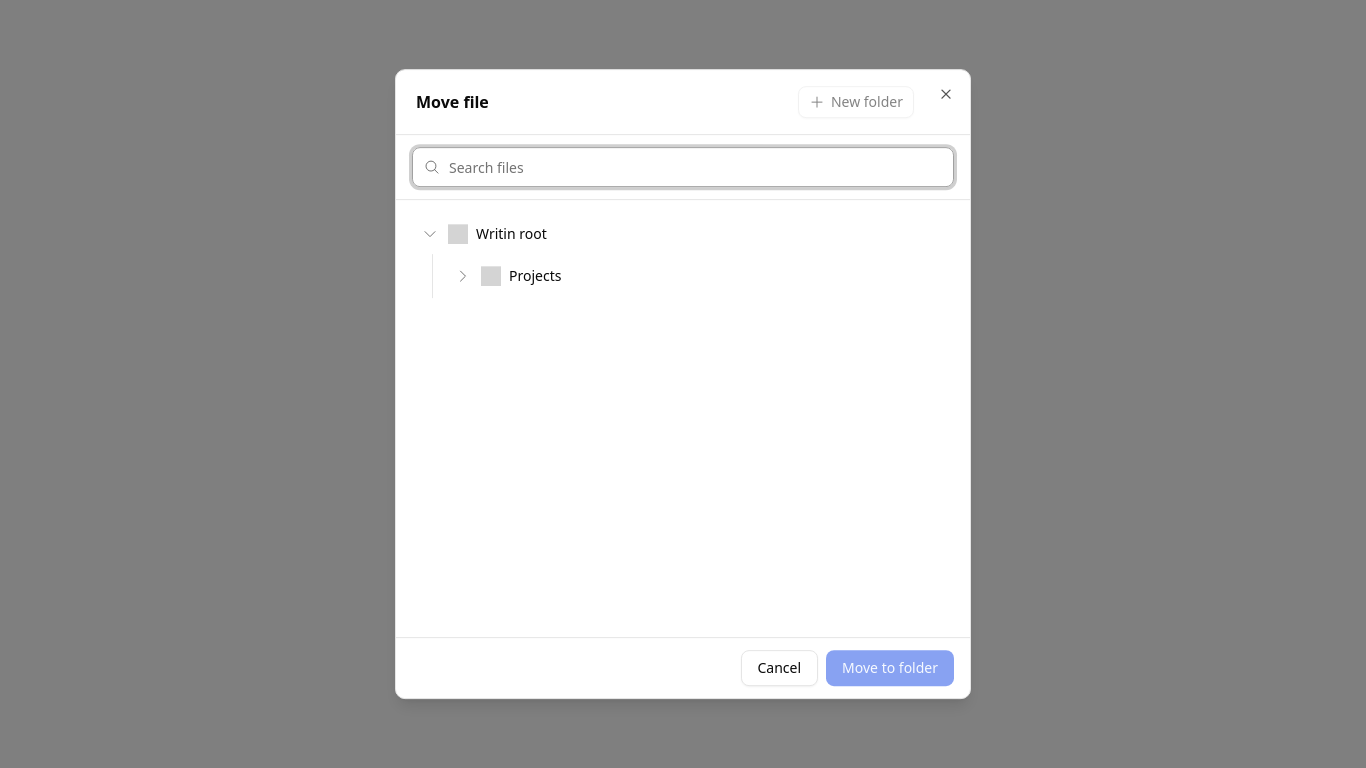
Test: MoveItemDialog › allows choosing the workspace root as the parent for a new folder
This screenshot has width=1366, height=768.
Click the list item "Writin root Projects".
click(683, 256)  # box [408,212,958,300]
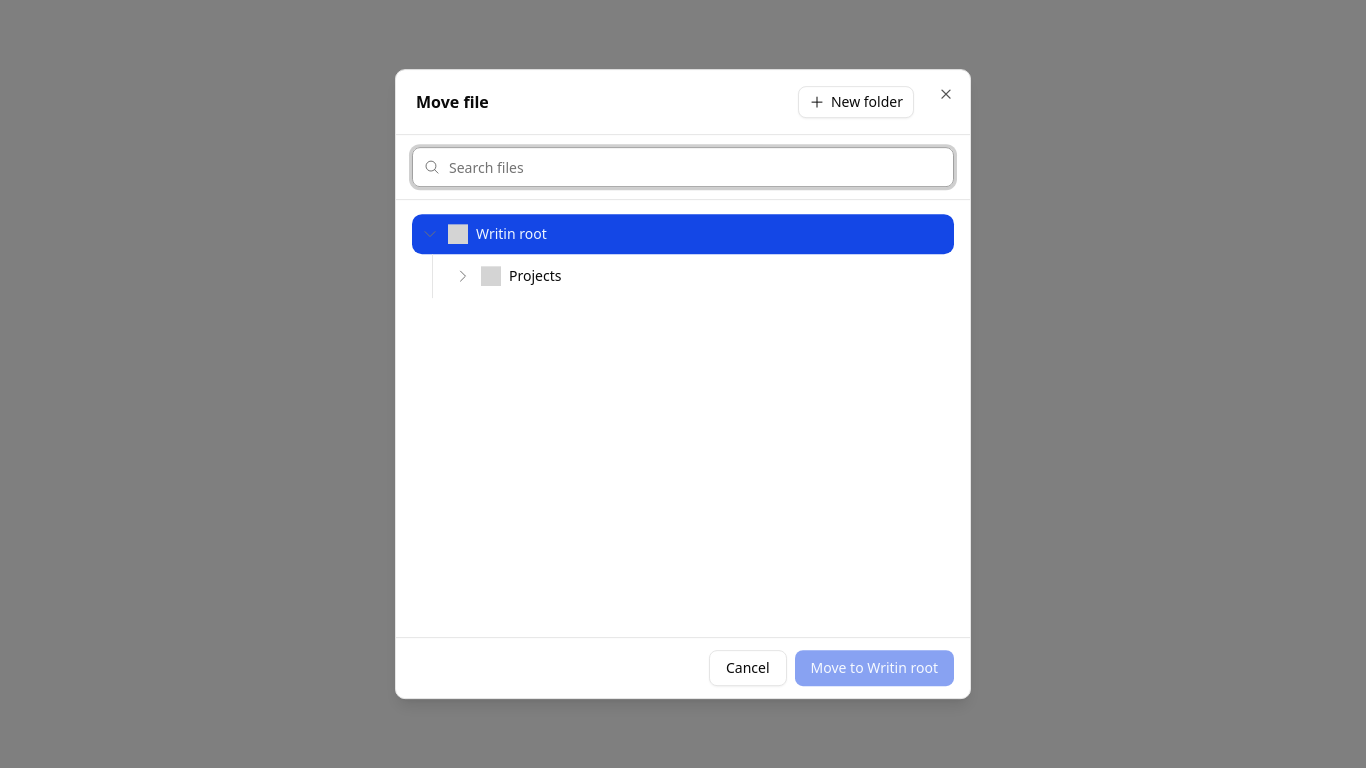
Expected: the button "Move to Writin root" is disabled, [795,650,954,686]
Expected: the button with aria-label "Create new folder" is enabled, [798,86,914,118]
